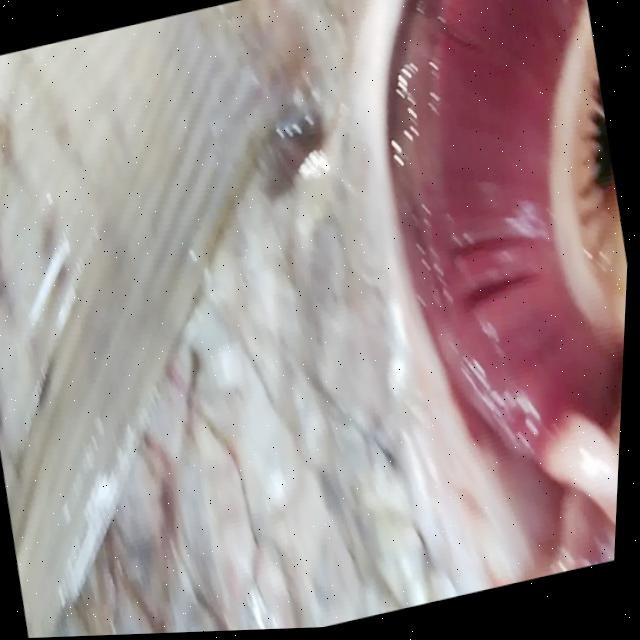Fresh: (301, 0, 640, 613)
